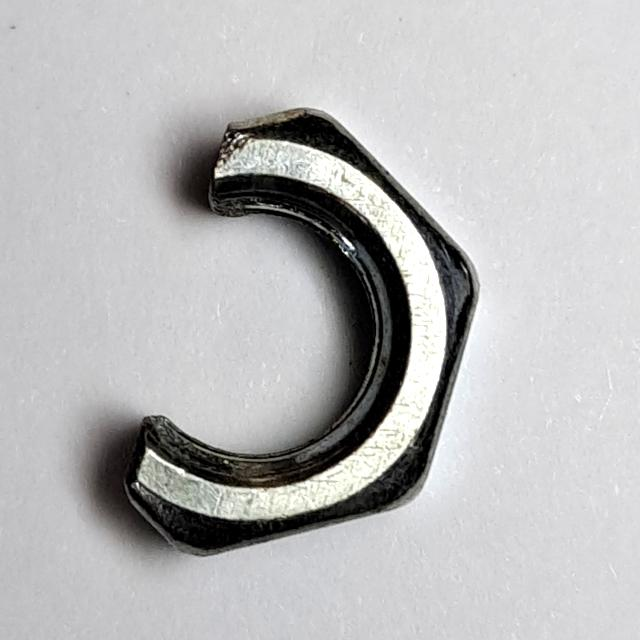Fracture: (111, 94, 497, 575)
